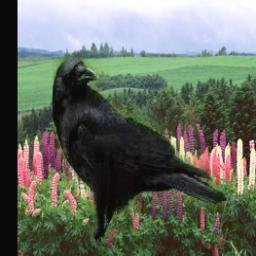Crow: (52, 57, 226, 241)
